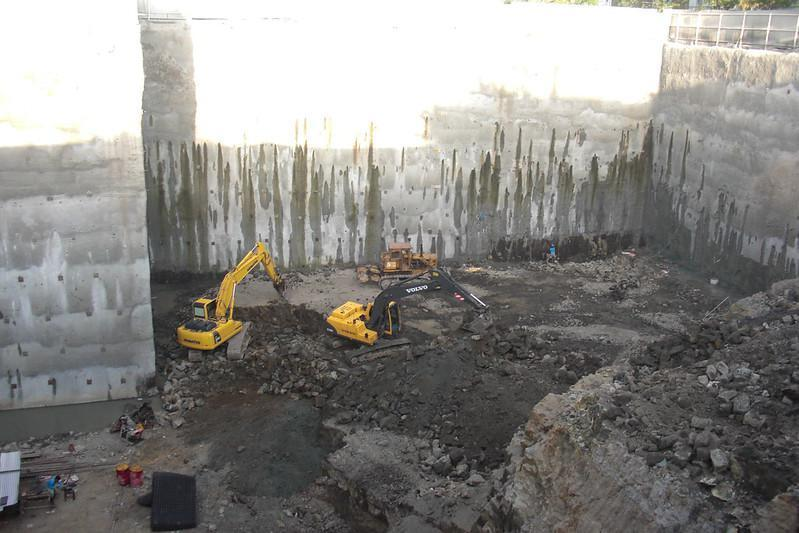Helmet: (552, 244, 556, 247)
Person: (46, 474, 58, 506), (134, 420, 144, 436), (549, 242, 557, 259)
